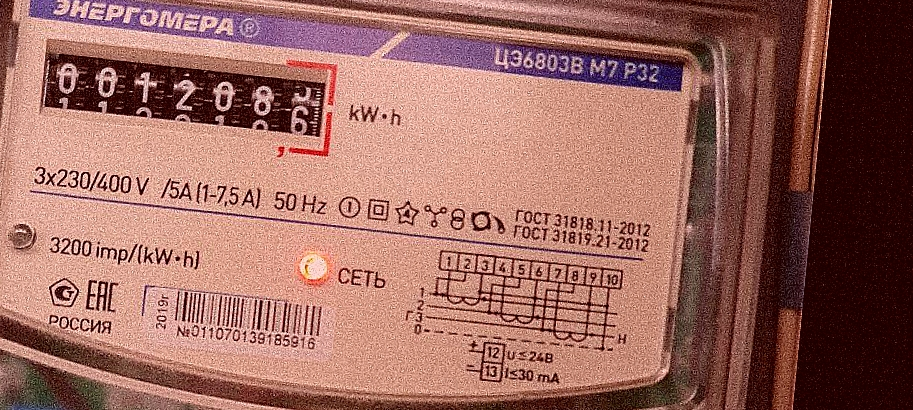0: (209, 76, 237, 113), (93, 61, 119, 100), (55, 57, 79, 96)
1: (134, 67, 154, 105)
2: (170, 76, 199, 113)
6: (285, 100, 312, 137)
8: (248, 81, 274, 119)
screen: (25, 25, 347, 172)
